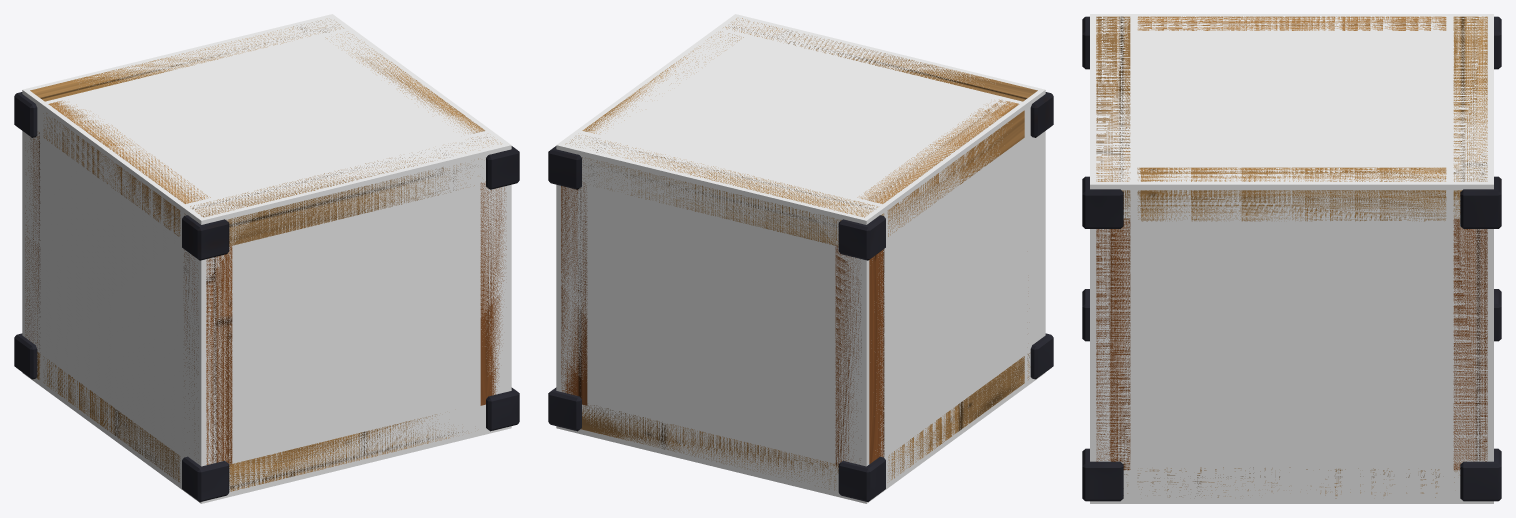
Rendered from crate_supply.glb.
The picture shows the model from 3 angles, left to right: view 1: azimuth 30°, elevation 25°; view 2: azimuth 150°, elevation 25°; view 3: azimuth 270°, elevation 25°; orthographic projection. The views are drawn at different scales.
Parts seen in each view (by area): view 1: col_crate, CrateSupply; view 2: col_crate, CrateSupply; view 3: col_crate, CrateSupply.
Part boxes in pixels (box(x1,y1,x2,y2)): col_crate: box(22, 14, 511, 503); CrateSupply: box(14, 20, 519, 501); col_crate: box(556, 14, 1045, 503); CrateSupply: box(548, 18, 1053, 501); col_crate: box(1090, 14, 1493, 503); CrateSupply: box(1082, 16, 1501, 501).
Size of the model in its own units: 0.81 by 0.68 by 0.81.
4 materials, 3 textured.
